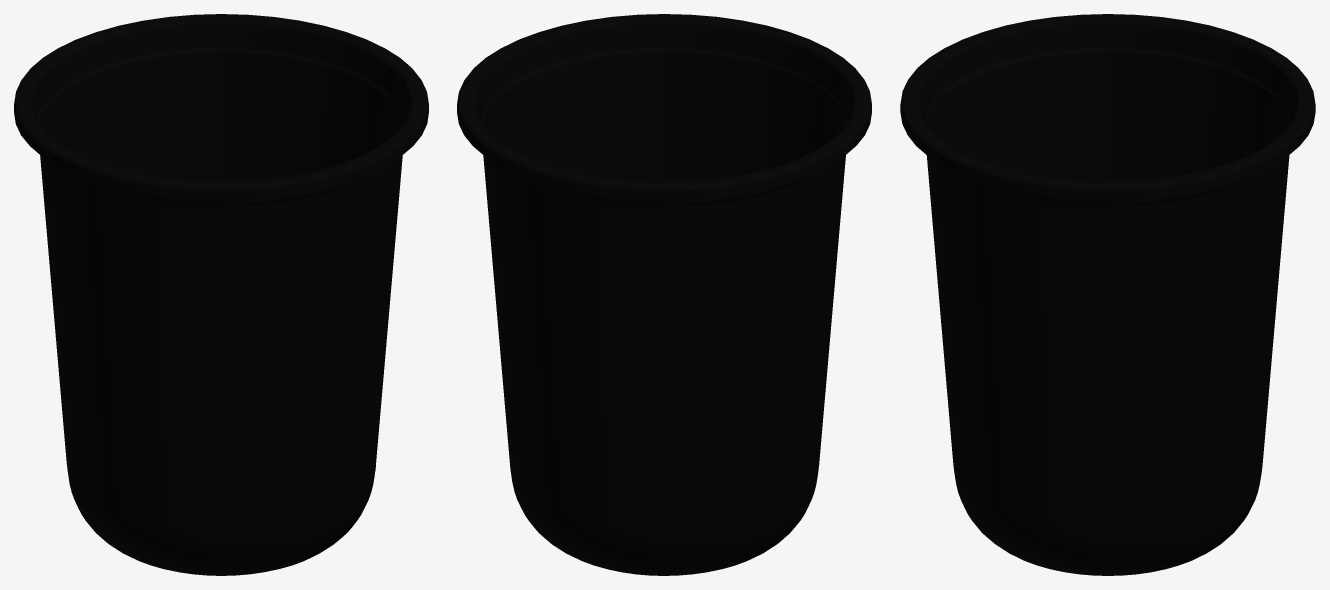
3 views of the same model, side by side, from view 1: azimuth 30°, elevation 25°; view 2: azimuth 150°, elevation 25°; view 3: azimuth 270°, elevation 25° (orthographic).
Visible parts, largest first — view 1: models; view 2: models; view 3: models.
Boxes of the visible parts, box(x1,y1,x2,y2) form: models: box(14, 14, 428, 575); models: box(457, 14, 871, 575); models: box(900, 14, 1315, 575).
Size of the model in its own units: 0.092 by 0.1052 by 0.092.
1 material, 1 textured.
